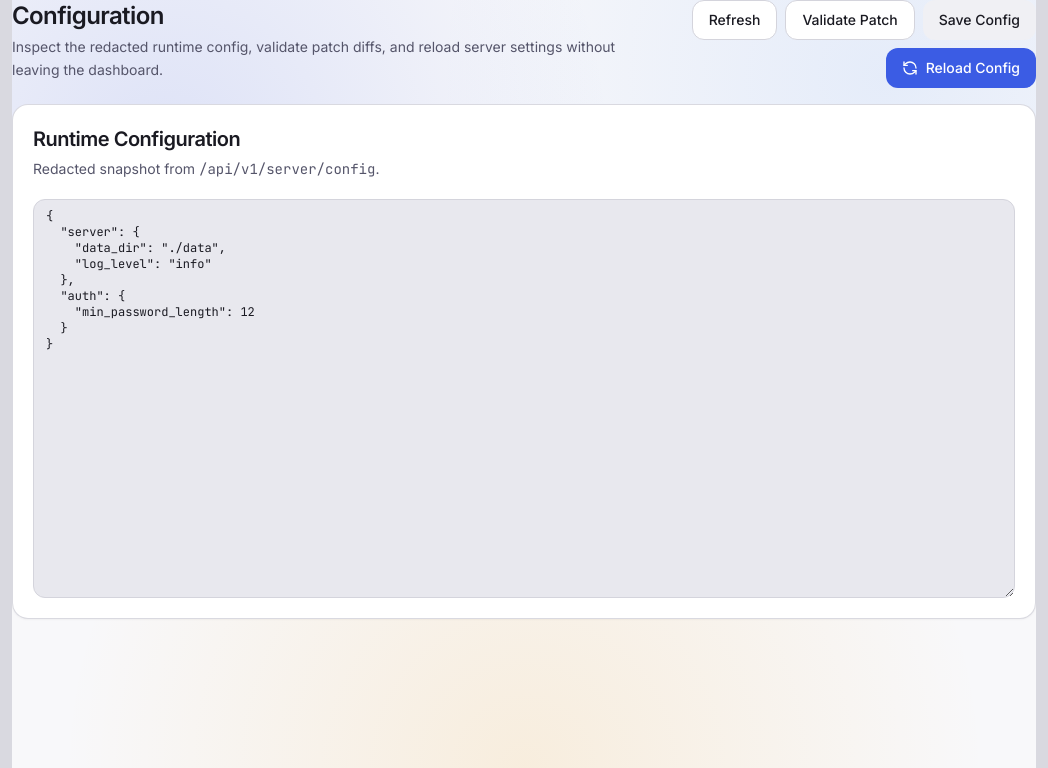
ConfigurationPage › reports when there are no config changes to save
expect the text box is shown: met, box [33,199,1015,598]
Click the button "Save Config": [979, 20] box [923,0,1036,40]
(page scrolled)
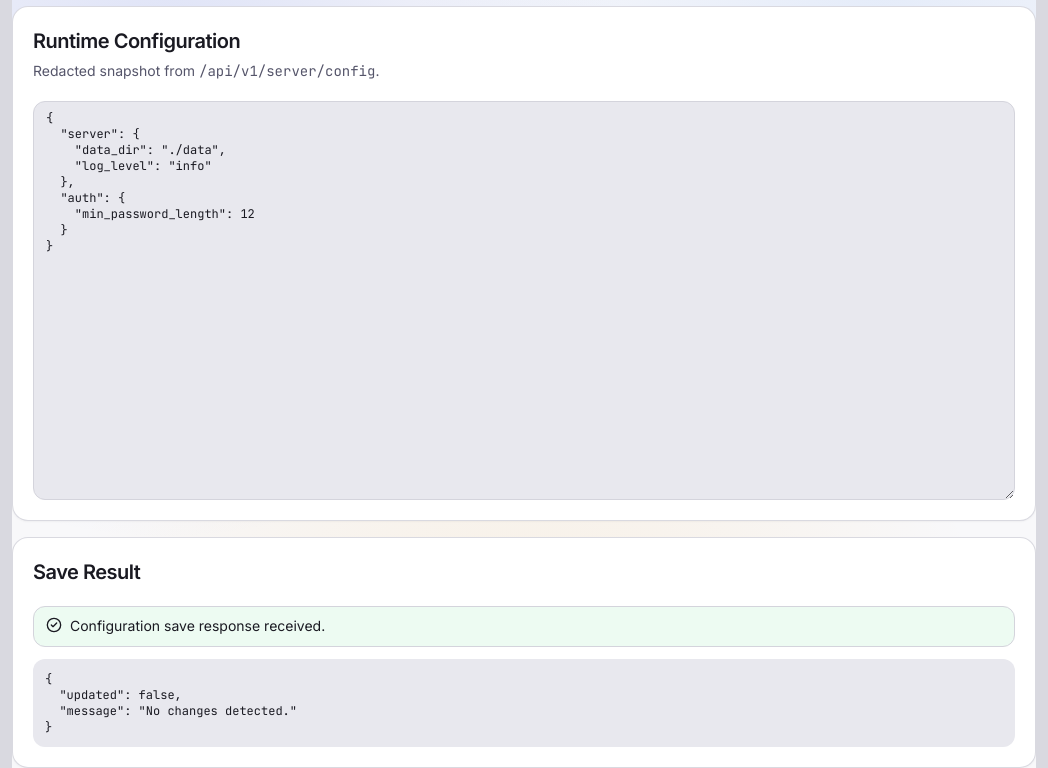
expect the heading "Save Result" is shown: met, box [33,560,140,584]
expect the text "{ \"updated\": false, \"message\": \"No changes detected.\" }" is shown: met, box [33,659,1015,747]
